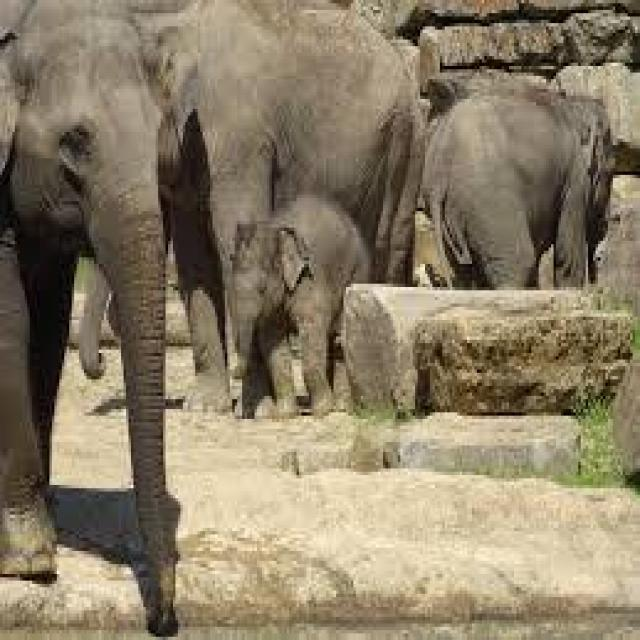Elephant: (0, 19, 178, 636), (425, 95, 603, 284), (227, 194, 361, 406)
